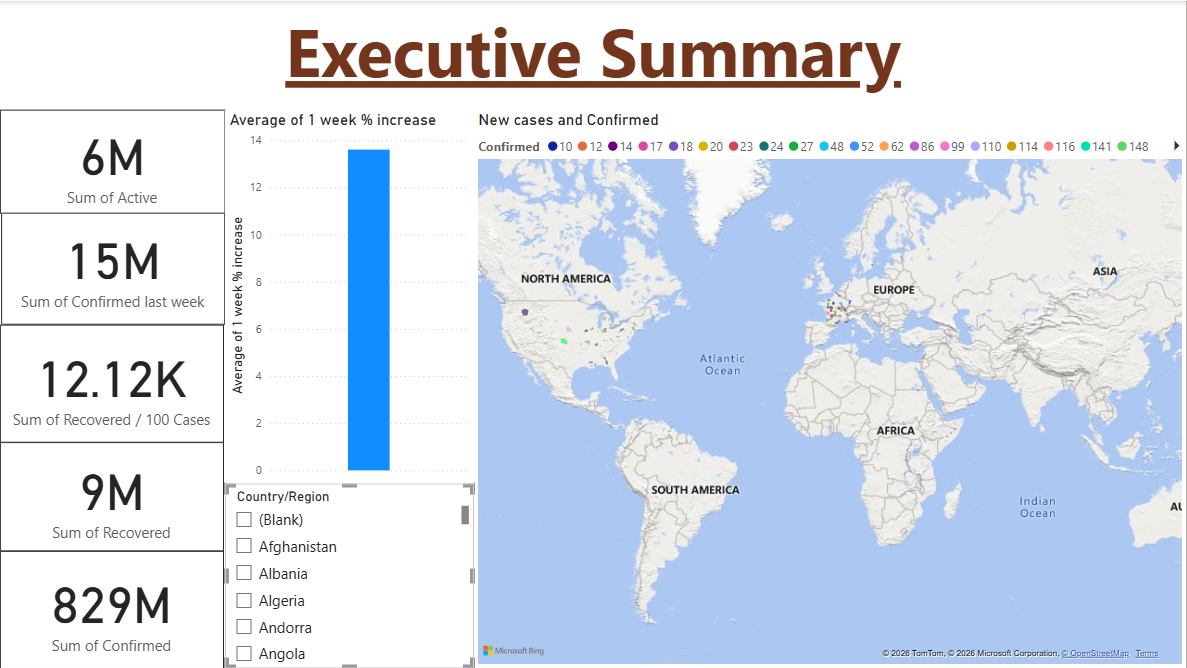

This screenshot's page, from the dashboard's own definition file:
{"tool":"powerbi","page":{"name":"Page 1","canvas":[1280,720],"ordinal":0},"visuals":[{"type":"textbox","box":[0,0,1280.3,118],"z":0},{"type":"filledMap","fields":{"Series":["country_latest.Confirmed"],"Category":["country_latest.New cases"]},"box":[511.3,117.4,769,603],"z":1000},{"type":"slicer","fields":{"Values":["country_latest.Country/Region"]},"box":[242.8,520.7,268.5,199.7],"z":2000},{"type":"card","fields":{"Values":["Sum(country_latest.Recovered)"]},"box":[0,476.2,241.5,117.4],"z":3000},{"type":"card","fields":{"Values":["Sum(daily_cases.Confirmed)"]},"box":[0,593.6,241.5,126.8],"z":4000},{"type":"card","fields":{"Values":["Sum(country_latest.Confirmed last week)"]},"box":[1.3,221.2,241.5,128.2],"z":5000},{"type":"card","fields":{"Values":["Sum(country_latest.Active)"]},"box":[0,117.4,242.8,112],"z":6000},{"type":"card","fields":{"Values":["Sum(country_latest.Recovered / 100 Cases)"]},"box":[0,349.4,241.5,126.8],"z":7000},{"type":"columnChart","fields":{"Y":["Avg(country_latest.1 week % increase)"]},"box":[242.8,117.4,268.5,403.4],"z":8000}]}

Visuals, with their boxes in screenshot pixels (x1, y1, x2, y2), scaled from the page's 1280x720 canvas onto the 1187x668 screenshot:
textbox: bbox=(0, 0, 1186, 109)
filledMap - country_latest.Confirmed x country_latest.New cases: bbox=(474, 109, 1186, 667)
slicer - country_latest.Country/Region: bbox=(225, 483, 474, 667)
card - Sum(country_latest.Recovered): bbox=(0, 442, 224, 551)
card - Sum(daily_cases.Confirmed): bbox=(0, 551, 224, 667)
card - Sum(country_latest.Confirmed last week): bbox=(1, 205, 225, 324)
card - Sum(country_latest.Active): bbox=(0, 109, 225, 213)
card - Sum(country_latest.Recovered / 100 Cases): bbox=(0, 324, 224, 442)
columnChart - Avg(country_latest.1 week % increase): bbox=(225, 109, 474, 483)
